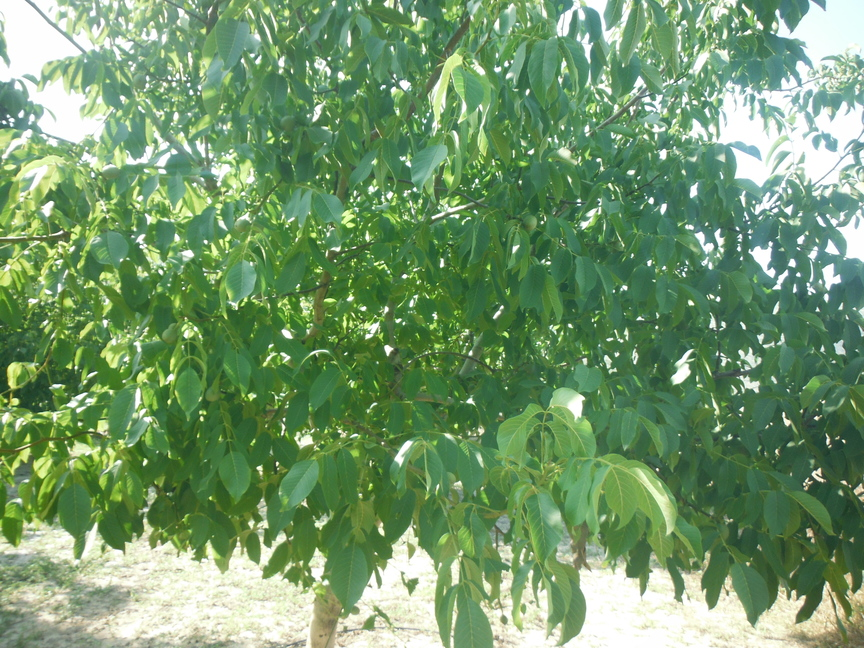walnut: (275, 110, 299, 133), (99, 160, 124, 181), (713, 519, 735, 542), (129, 70, 150, 94), (520, 211, 541, 235), (230, 214, 254, 234), (203, 383, 223, 404), (161, 325, 179, 348), (440, 468, 460, 488), (167, 321, 182, 334)
